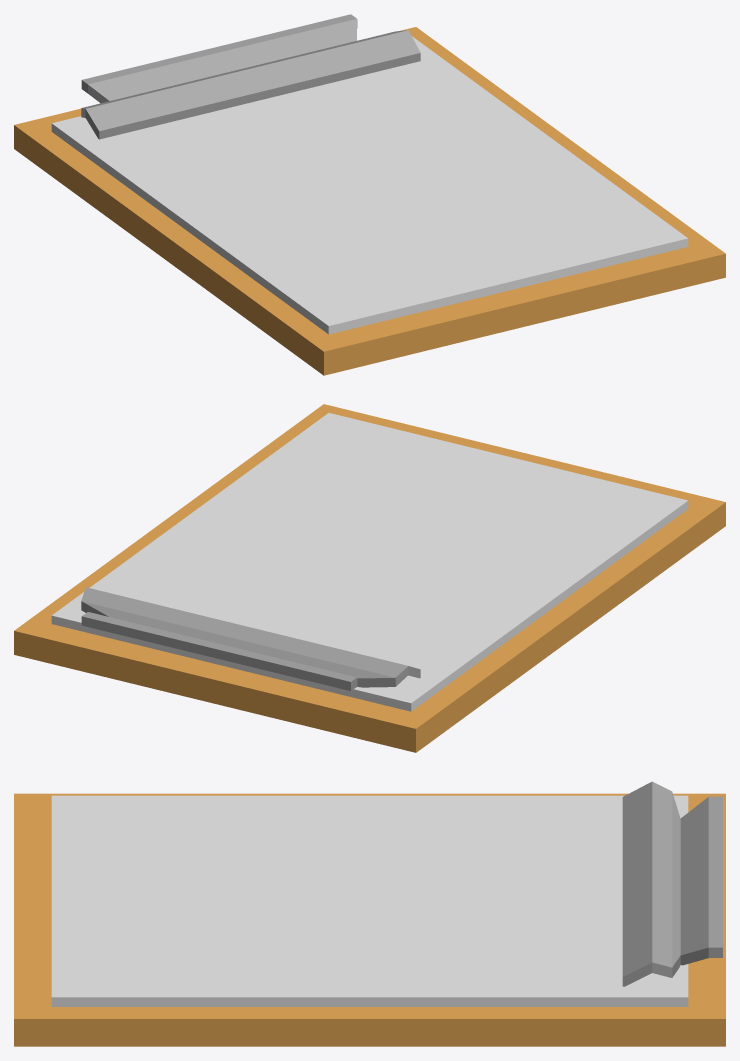
File: clipboard.fbx
3 views of the same model, one above another, from view 1: azimuth 30°, elevation 25°; view 2: azimuth 150°, elevation 25°; view 3: azimuth 270°, elevation 25° (orthographic). The views are drawn at different scales.
Visible parts, largest first — view 1: Clipboard; view 2: Clipboard; view 3: Clipboard.
Part boxes in pixels (bbox=[...]): Clipboard: bbox=[14, 14, 725, 375]; Clipboard: bbox=[14, 404, 725, 752]; Clipboard: bbox=[14, 781, 725, 1046].
Bounding box in the file's own units: 26.93 × 35.94 × 3.45.
